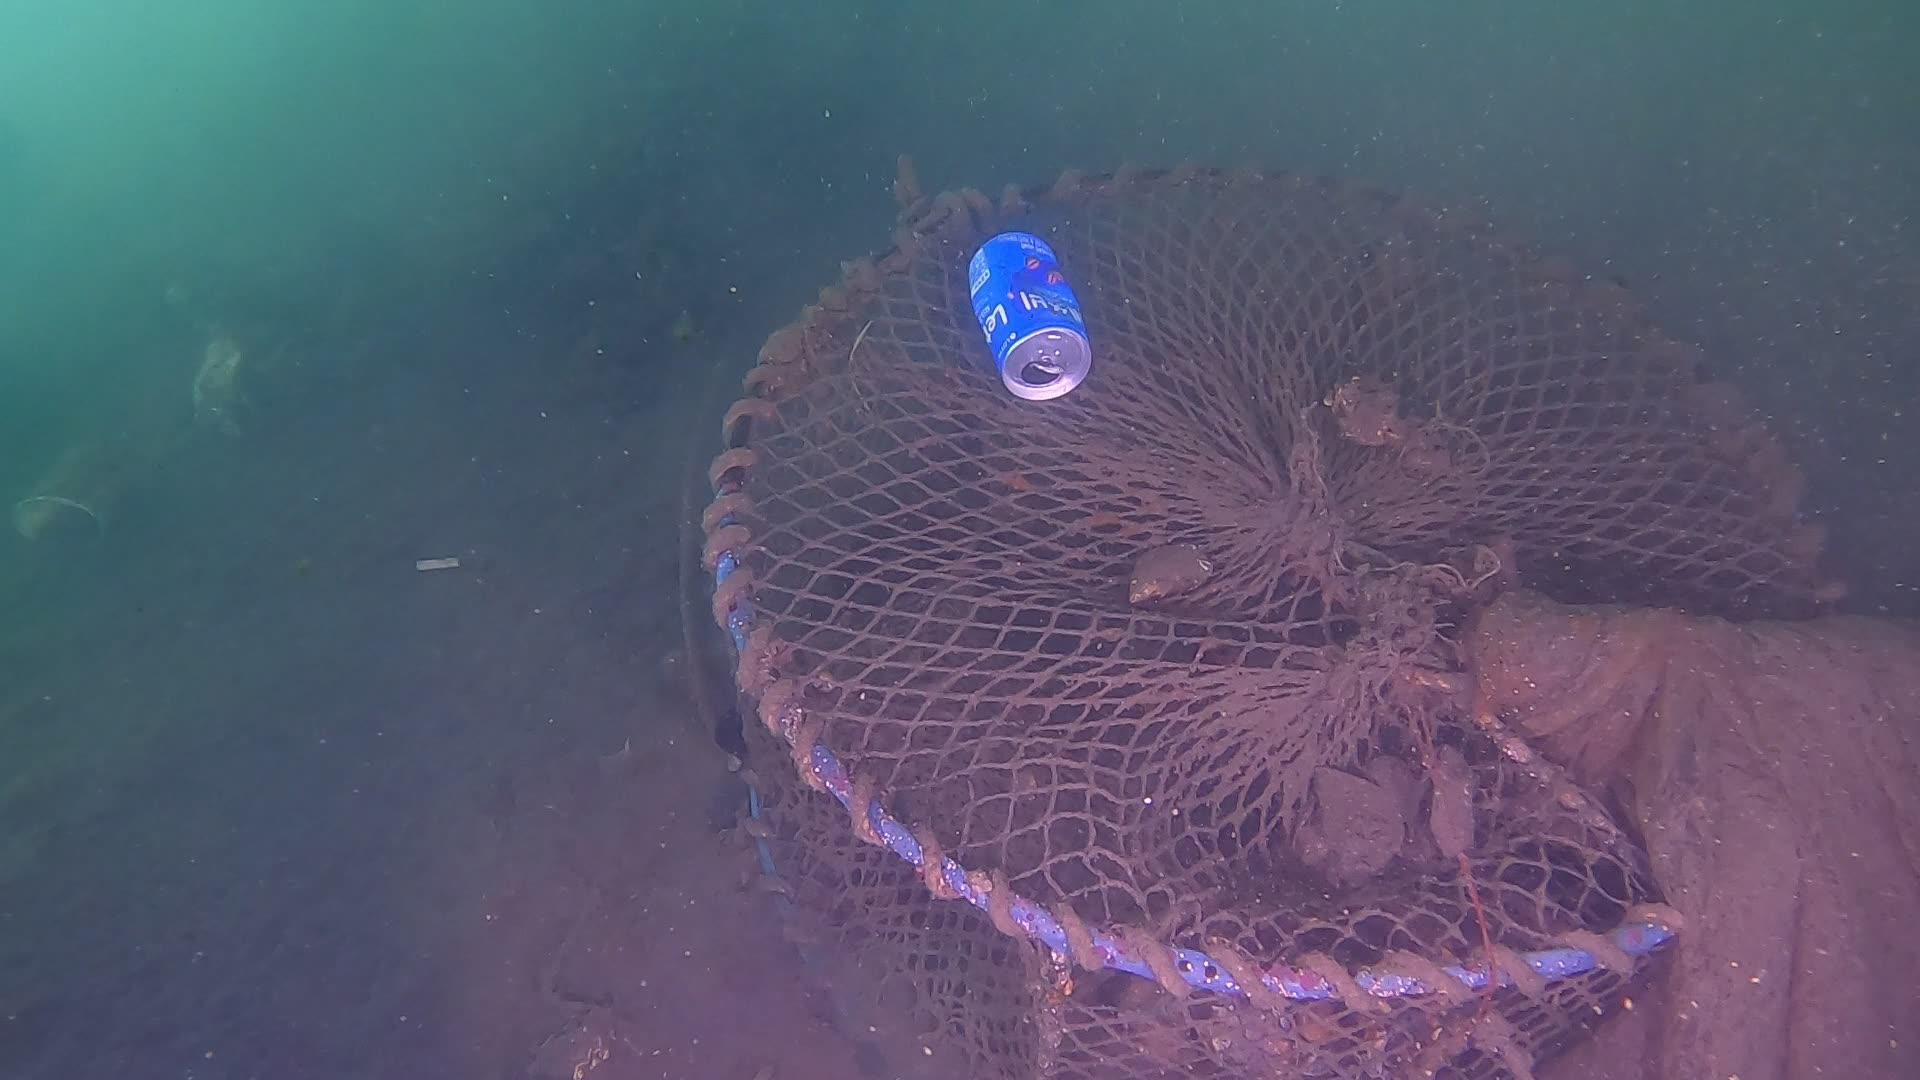circular fish trap: (688, 146, 1861, 1080)
